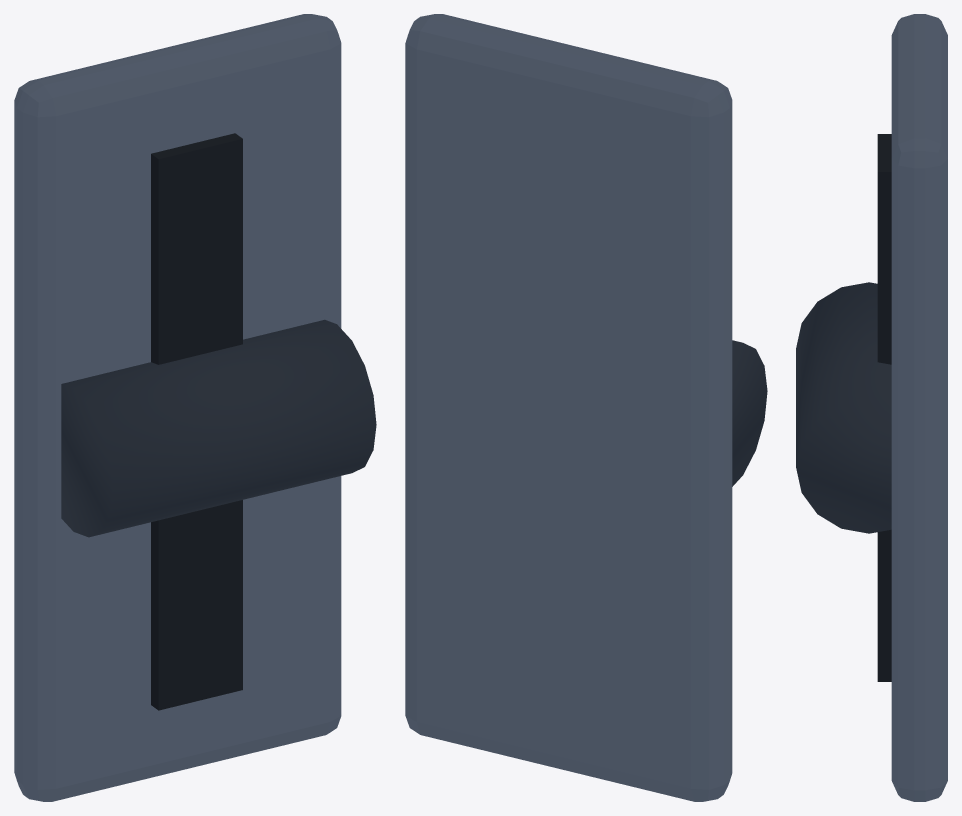
The model's file is palanca_base.glb.
3 renders of one model, left to right at view 1: azimuth 30°, elevation 25°; view 2: azimuth 150°, elevation 25°; view 3: azimuth 270°, elevation 25°, orthographic. The views are drawn at different scales.
Visible parts, largest first — view 1: Cube.125, Cylinder.071, Cube.126; view 2: Cube.125, Cylinder.071; view 3: Cube.125, Cylinder.071, Cube.126.
Boxes of the visible parts, x1,y1,x2,y2 form: Cube.125: [14, 14, 341, 801]; Cylinder.071: [61, 319, 376, 537]; Cube.126: [151, 133, 242, 710]; Cube.125: [405, 14, 732, 801]; Cylinder.071: [732, 340, 767, 486]; Cube.125: [891, 14, 947, 801]; Cylinder.071: [796, 282, 891, 533]; Cube.126: [877, 134, 891, 681].
Bounding box in the file's own units: 0.06 × 0.13 × 0.027.
